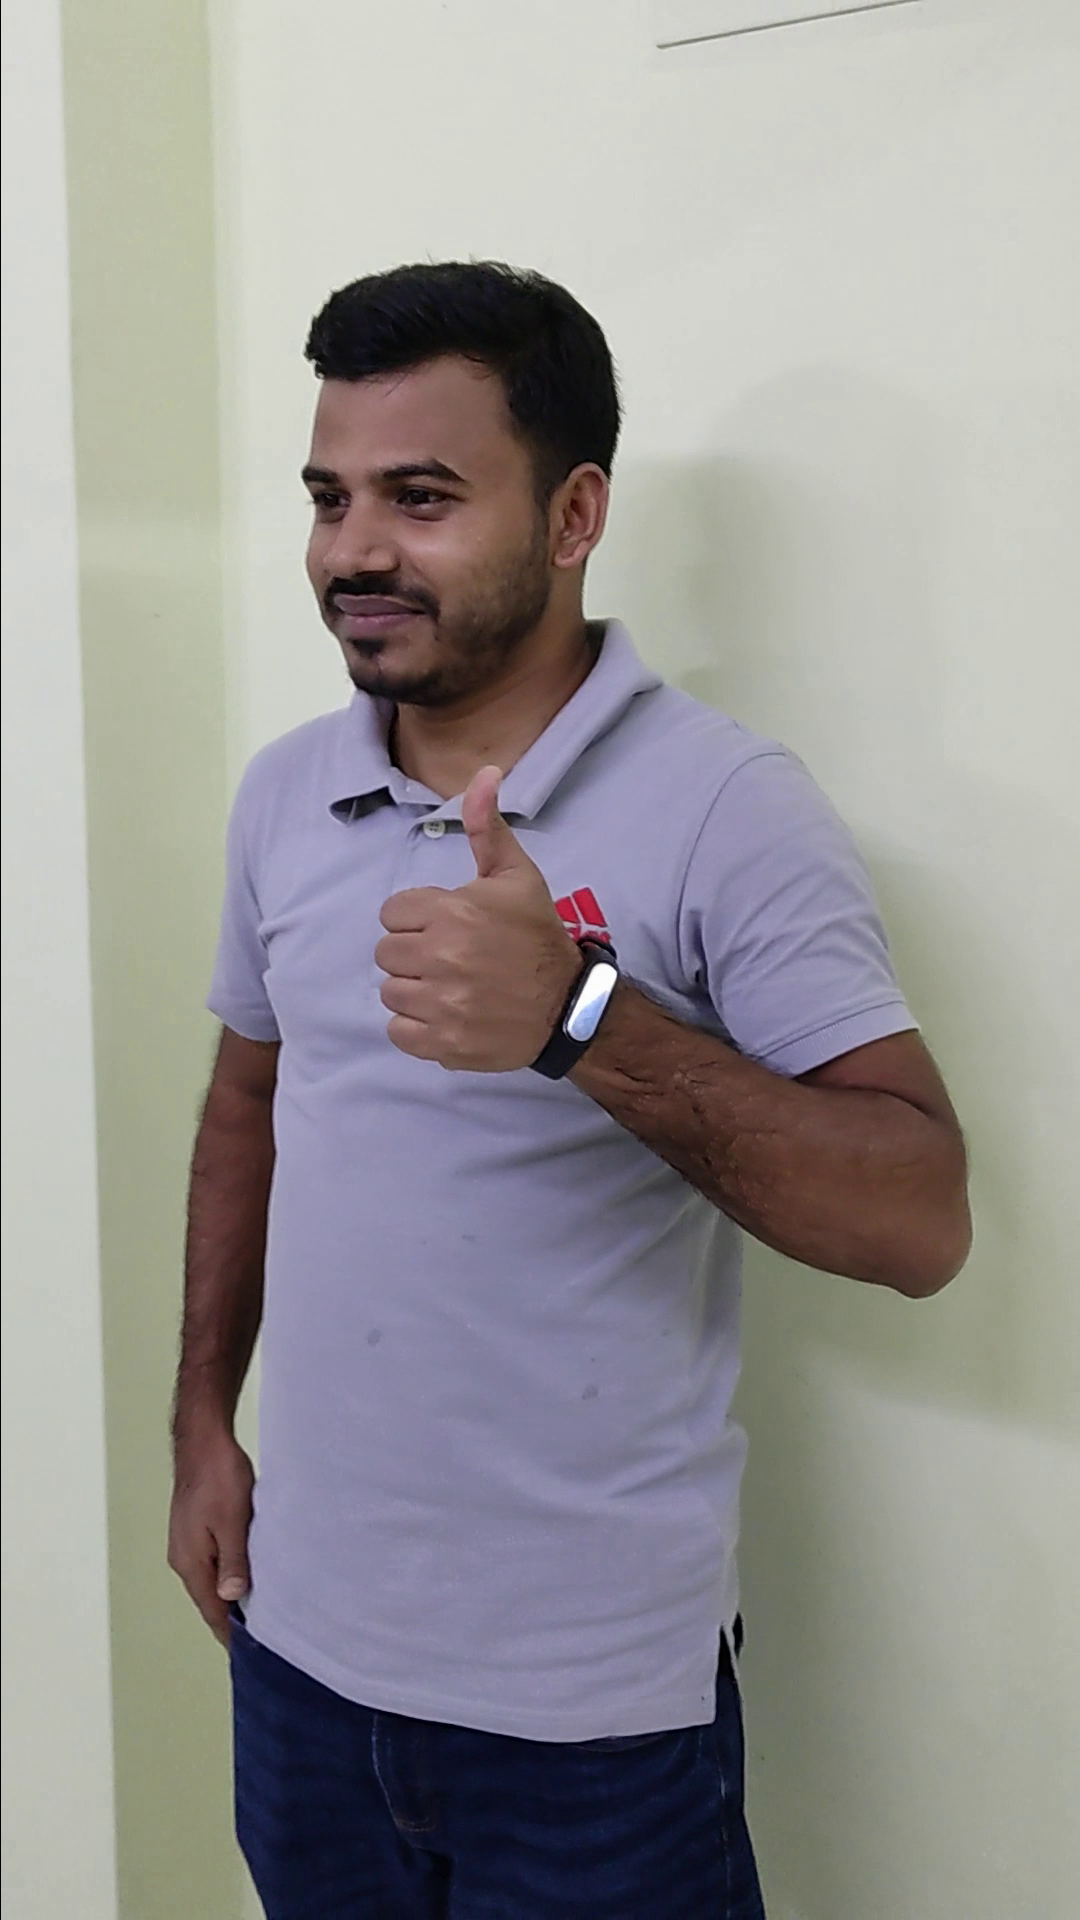Like: (356, 749, 596, 1087)
None: (131, 1386, 277, 1679)
